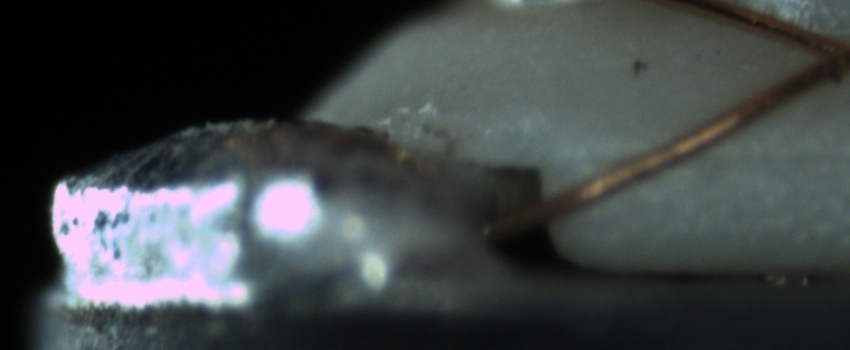CL: (796, 23, 850, 89)
DL: (627, 124, 849, 184)
